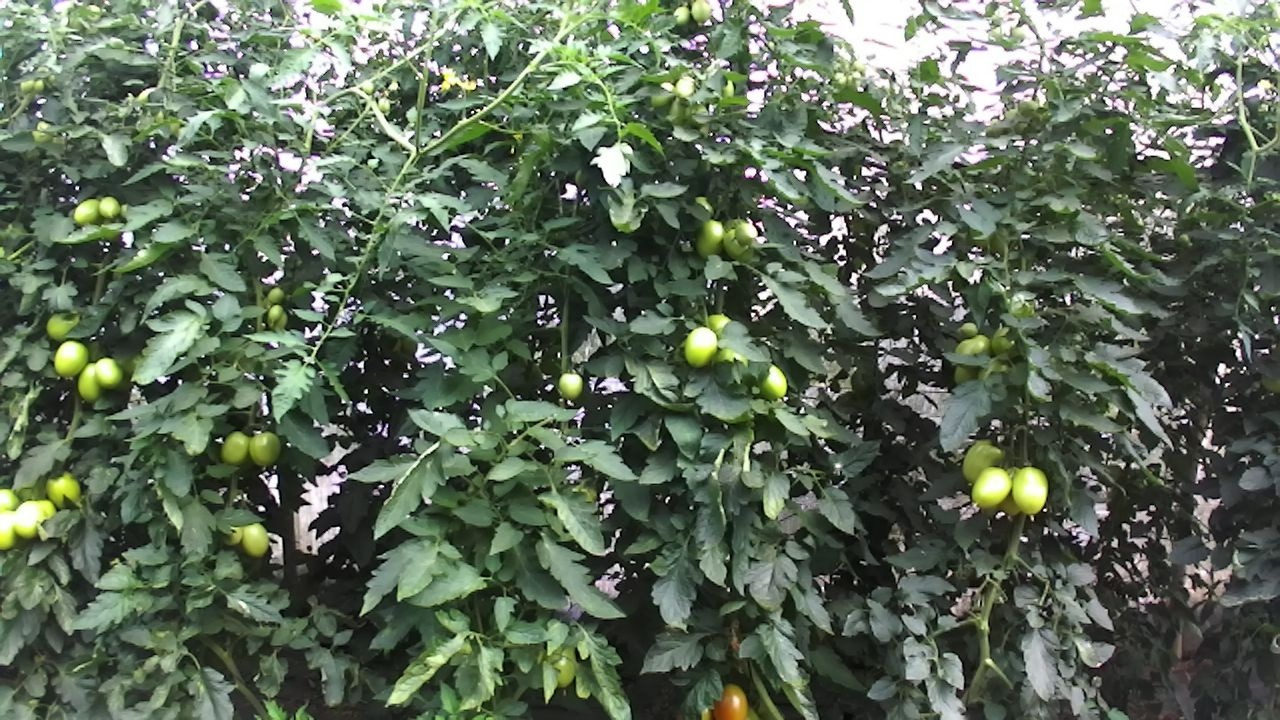tomato: (956, 435, 1009, 489), (1008, 462, 1051, 519), (966, 464, 1014, 513), (679, 324, 720, 373), (42, 466, 83, 511), (708, 679, 752, 720), (690, 215, 726, 264), (11, 497, 48, 543), (41, 306, 83, 345), (51, 335, 88, 379), (244, 428, 281, 470), (755, 359, 789, 403), (239, 519, 272, 563), (90, 353, 125, 391), (219, 427, 250, 468), (75, 360, 100, 403), (70, 196, 102, 228), (557, 369, 583, 403), (731, 218, 760, 247), (96, 193, 122, 221), (688, 0, 712, 25), (956, 318, 980, 342), (672, 2, 692, 27), (265, 301, 284, 327), (265, 284, 286, 305)
